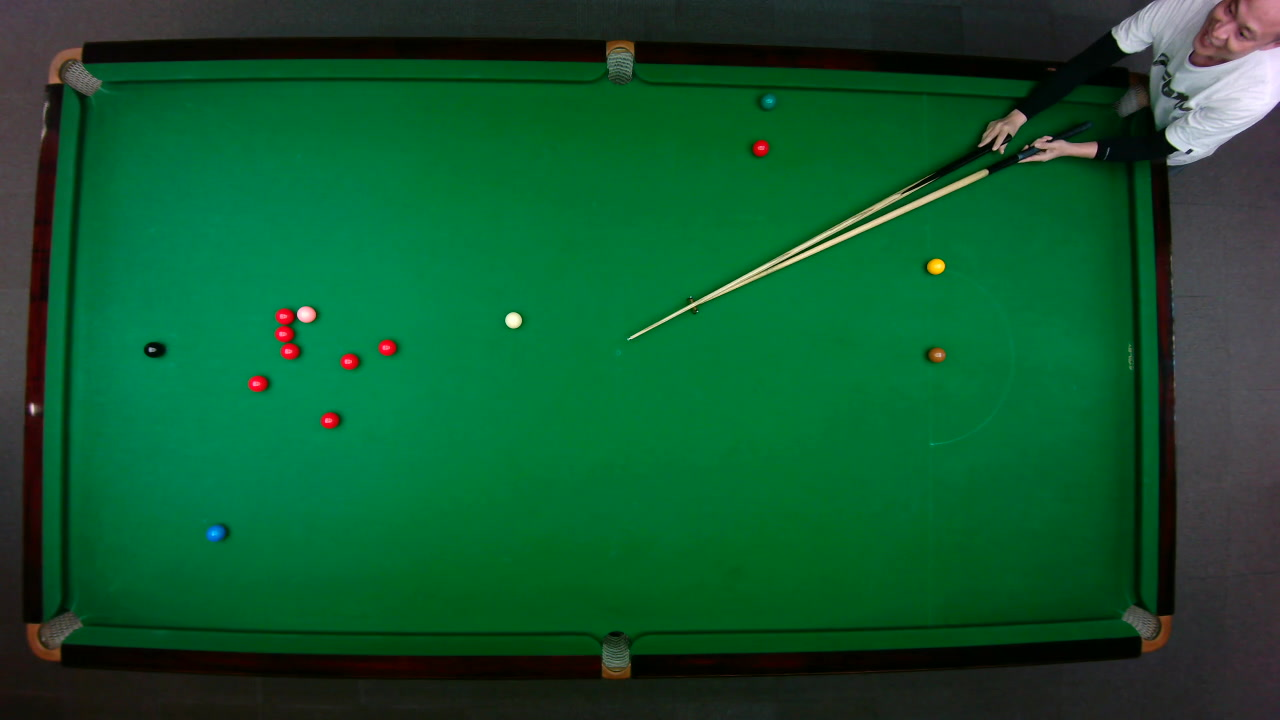bag: (24, 609, 84, 661), (45, 46, 102, 96), (1119, 603, 1171, 652), (1109, 72, 1159, 120), (600, 629, 629, 680), (605, 38, 633, 85)
black: (142, 340, 164, 358)
blue: (205, 523, 226, 542)
brown: (926, 346, 946, 362)
cue: (622, 148, 1003, 343)
green: (759, 93, 776, 110)
pink: (294, 304, 317, 323)
red: (318, 410, 340, 429), (246, 374, 269, 392), (377, 337, 397, 356), (750, 138, 770, 157), (273, 306, 294, 324), (278, 342, 300, 359), (272, 325, 294, 342), (338, 352, 359, 369)
white: (503, 310, 522, 329)
yellow: (925, 257, 945, 274)
zone: (927, 266, 1014, 445)
